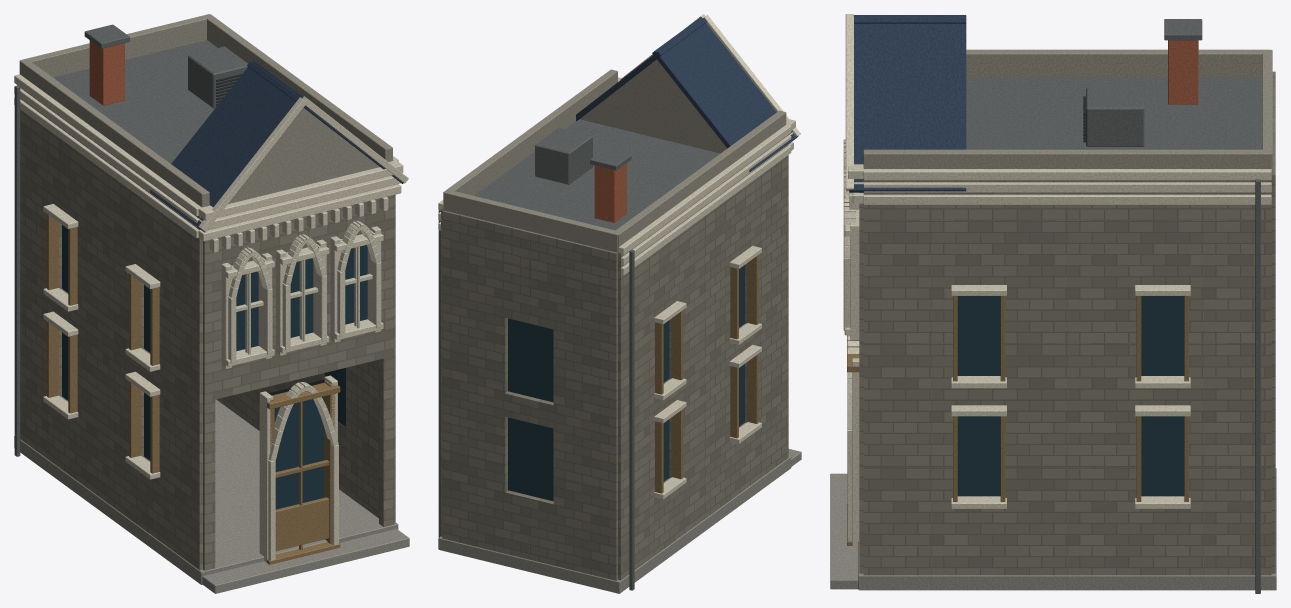
The model's file is CLSTGA19_lod1.glb.
The picture shows the model from 3 angles, left to right: view 1: azimuth 30°, elevation 25°; view 2: azimuth 150°, elevation 25°; view 3: azimuth 270°, elevation 25°; orthographic projection. The views are drawn at different scales.
Visible parts, largest first — view 1: CLSTGA19_LOD1; view 2: CLSTGA19_LOD1; view 3: CLSTGA19_LOD1.
Boxes of the visible parts, x1,y1,x2,y2 form: CLSTGA19_LOD1: [14, 14, 409, 593]; CLSTGA19_LOD1: [438, 14, 801, 593]; CLSTGA19_LOD1: [830, 14, 1276, 593].
Size of the model in its own units: 4.11 by 8.45 by 6.57.
Materials: 11 (9 with a texture image).
